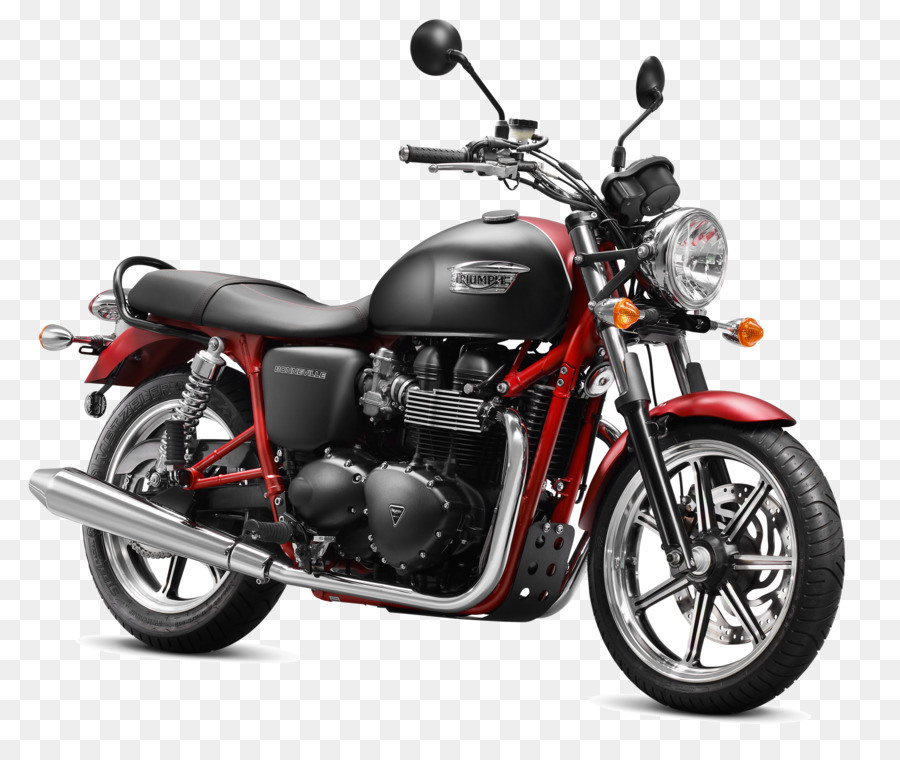motorcycle: (30, 115, 849, 715)
